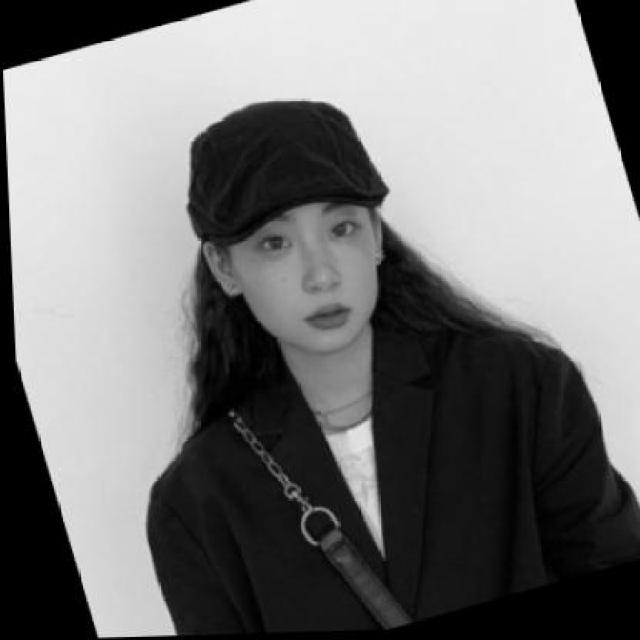hat: (162, 76, 390, 259)
